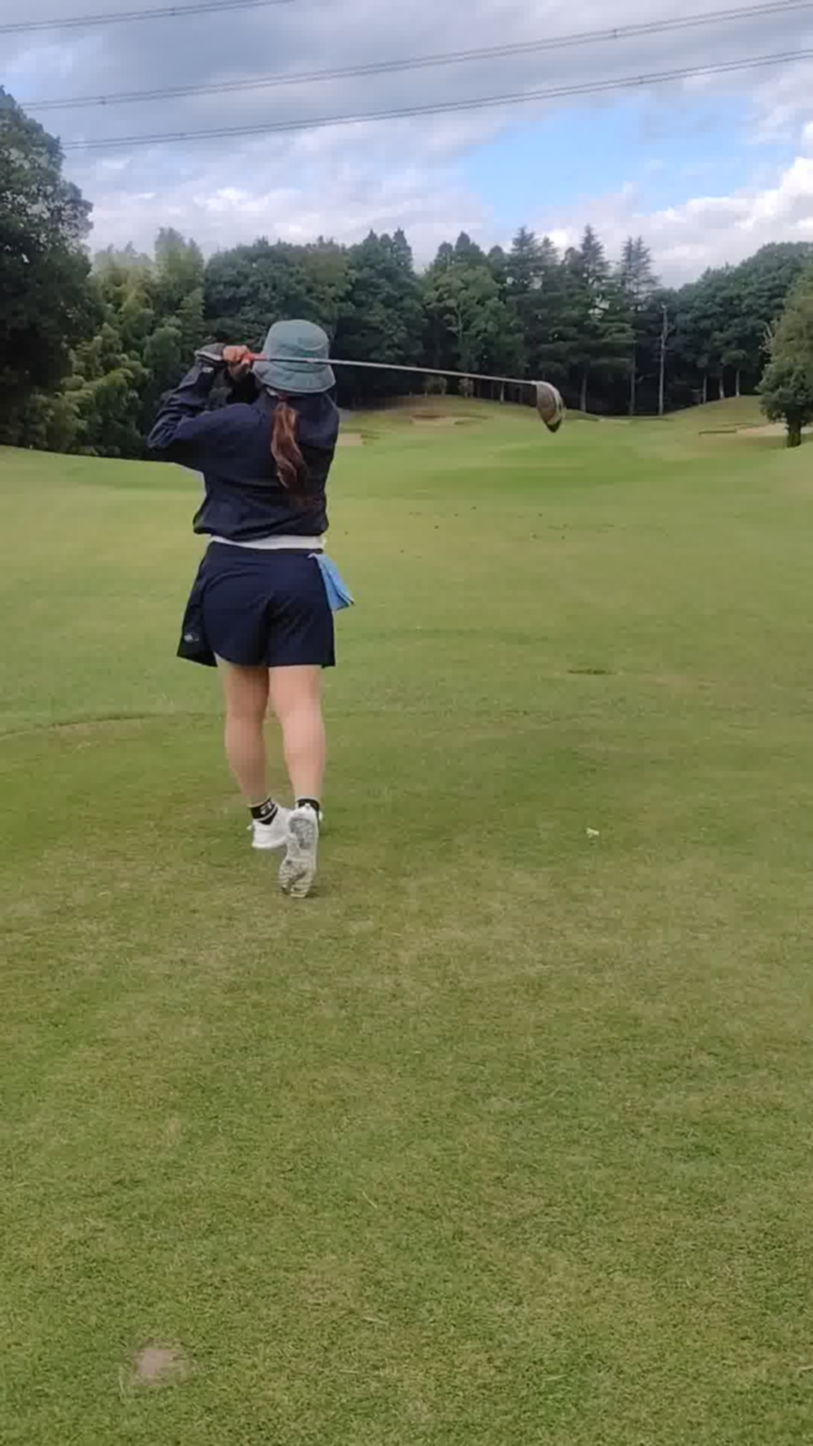clubhead: (462, 351, 662, 518)
